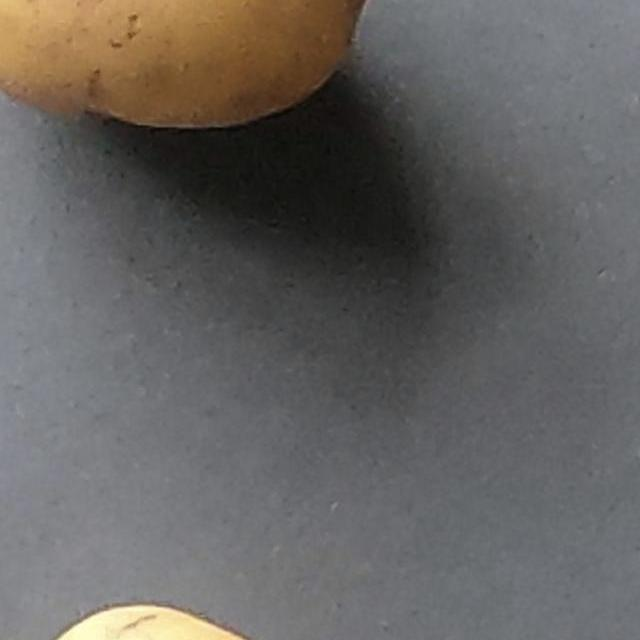potato: (0, 0, 475, 182)
